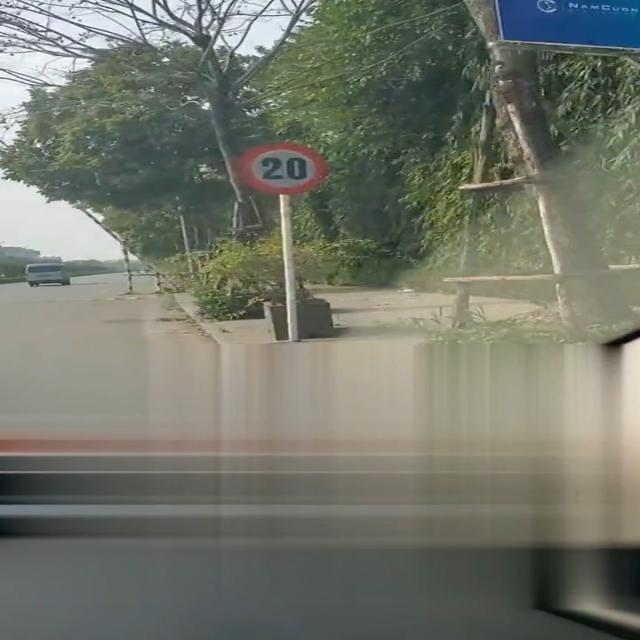127-toc-do-toi-da-20: (237, 140, 329, 197)
